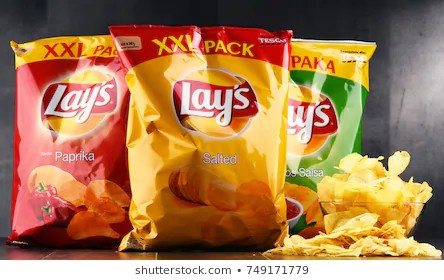colgate-medium: (112, 24, 287, 257), (10, 37, 125, 243), (287, 37, 368, 228)
